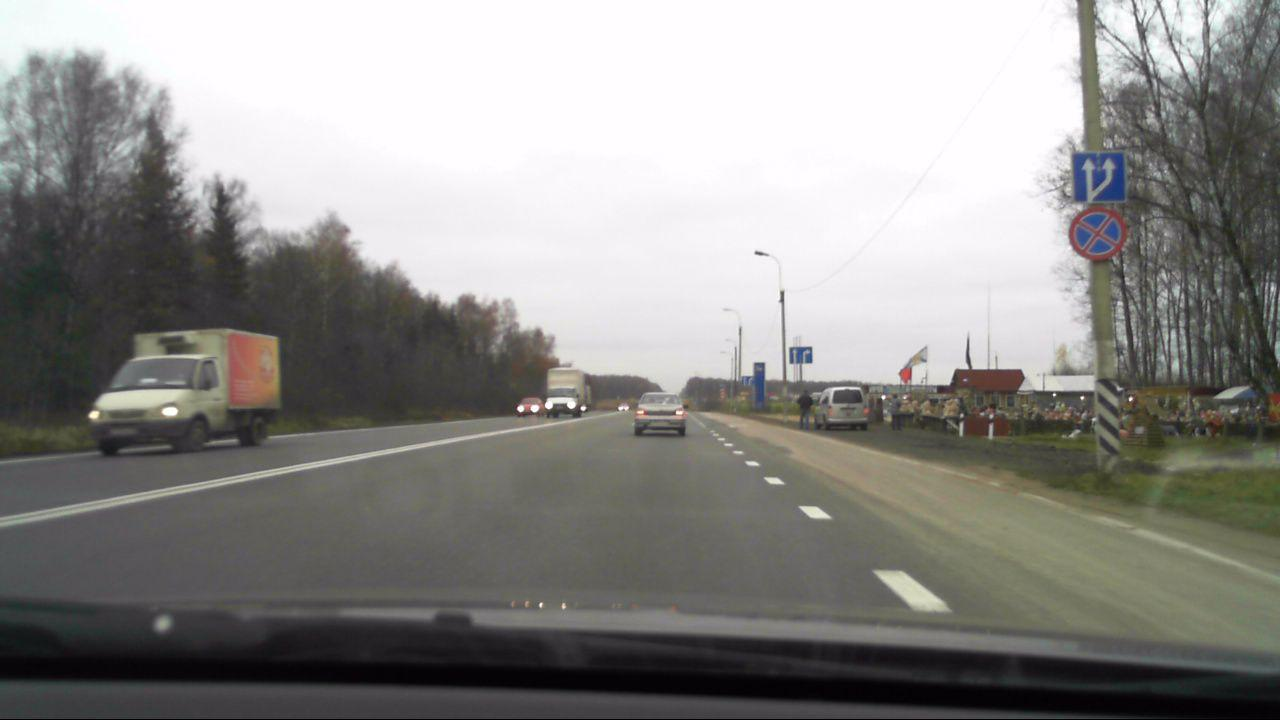3_27: (1066, 206, 1126, 260)
5_15_1: (788, 346, 816, 364), (739, 374, 756, 387)
5_15_3: (1073, 150, 1127, 203)
